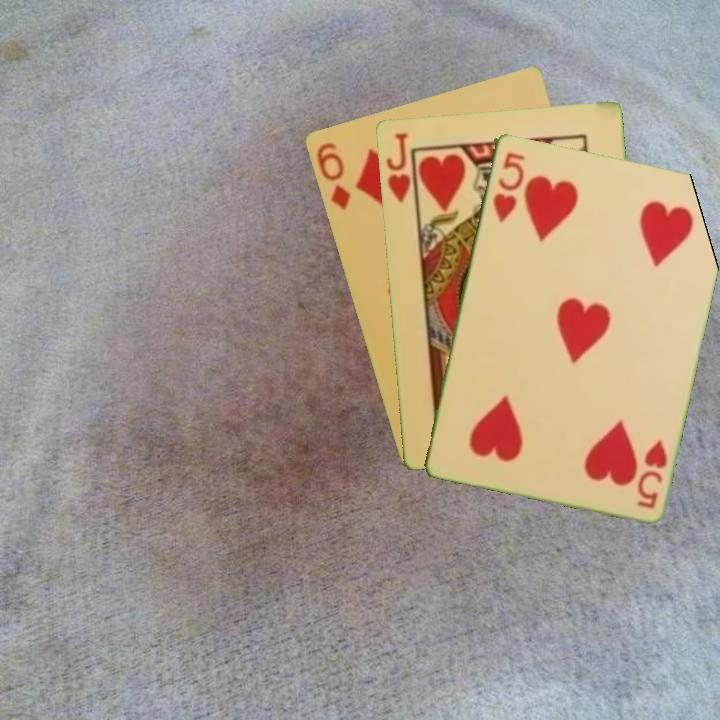5h: (489, 148, 527, 224), (632, 435, 670, 511)
6d: (312, 138, 353, 213)
Jh: (382, 128, 419, 211)
